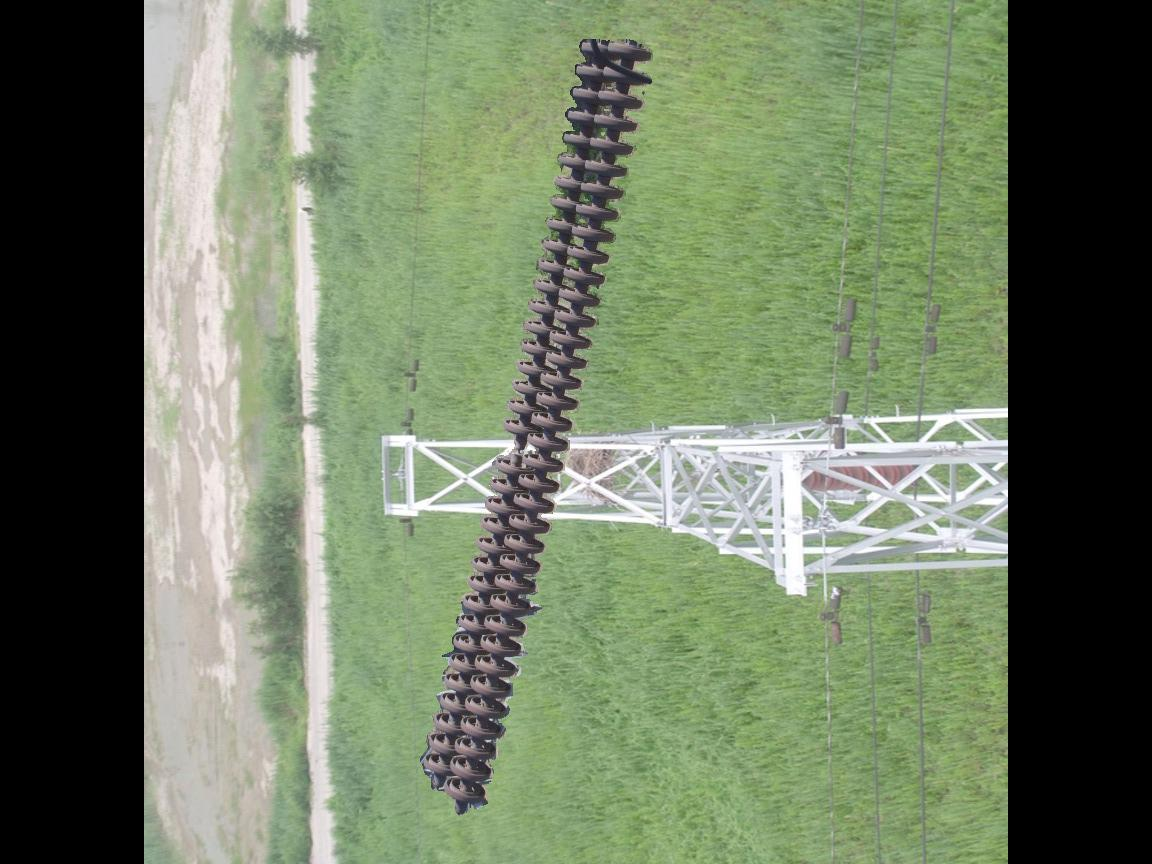insulator: (413, 30, 659, 815), (805, 459, 919, 499)
insulator_stringdrop: (489, 415, 539, 479)
